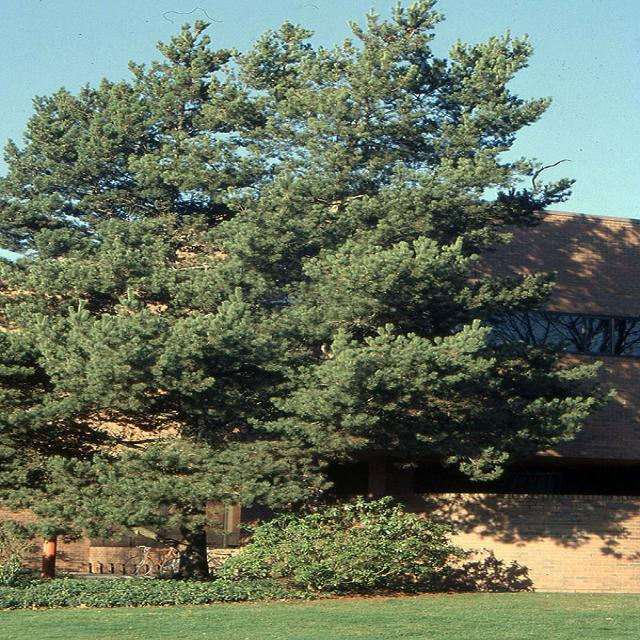Pinus contorta var: (9, 0, 578, 562)
